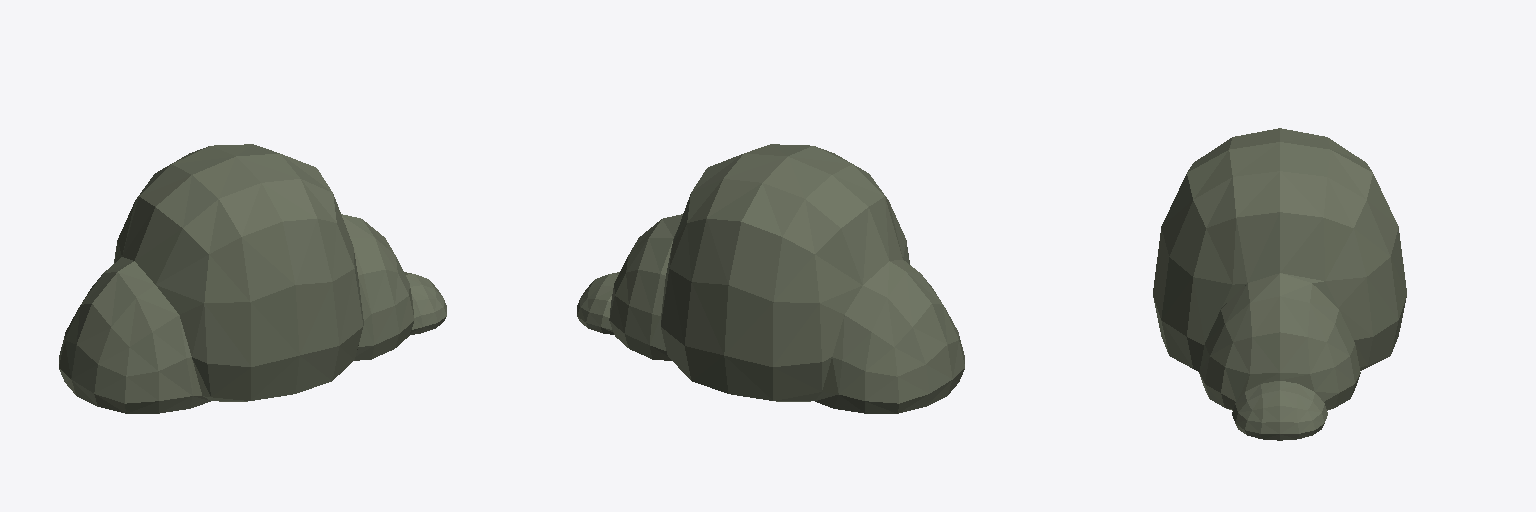
File: Cloud_3.obj
The picture shows the model from 3 angles: view 1: azimuth 30°, elevation 25°; view 2: azimuth 150°, elevation 25°; view 3: azimuth 270°, elevation 25°; orthographic projection.
Visible parts, largest first — view 1: Cloud_3_Cube.343; view 2: Cloud_3_Cube.343; view 3: Cloud_3_Cube.343.
Part boxes in pixels (x1,y1,x2,y2): Cloud_3_Cube.343: (59, 144, 446, 413); Cloud_3_Cube.343: (577, 144, 964, 413); Cloud_3_Cube.343: (1153, 128, 1406, 440).
Bounding box in the file's own units: 5.85 × 3.16 × 3.49.